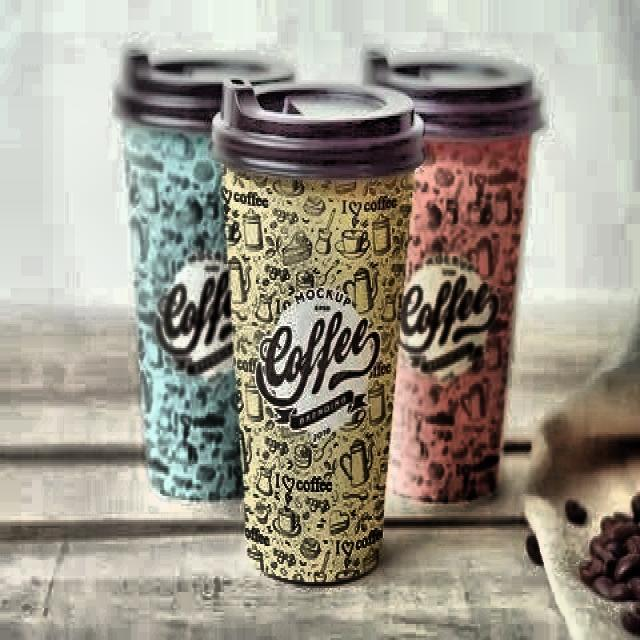Cup: (110, 86, 311, 526), (220, 115, 399, 598), (359, 79, 531, 522)
